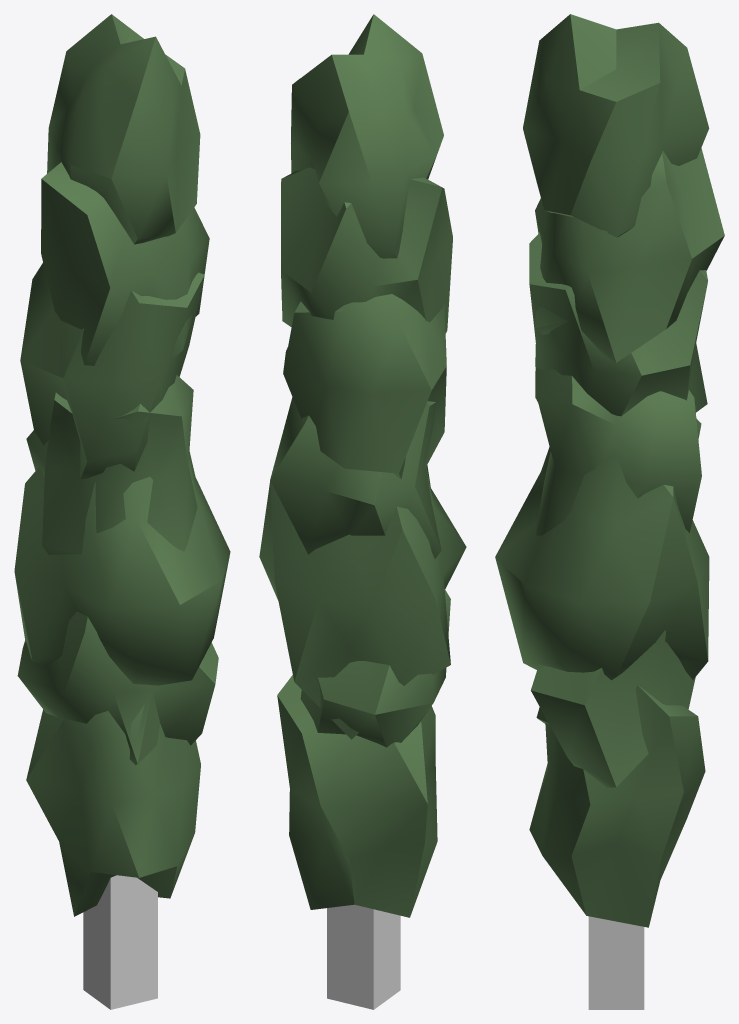
The model's file is tree_poplar.glb.
3 renders of one model, left to right at view 1: azimuth 30°, elevation 25°; view 2: azimuth 150°, elevation 25°; view 3: azimuth 270°, elevation 25°, orthographic. The views are drawn at different scales.
Parts seen in each view (by area): view 1: tree_mesh, tree_poplar-col; view 2: tree_mesh, tree_poplar-col; view 3: tree_mesh, tree_poplar-col.
Boxes of the visible parts, bbox=[...] form: tree_mesh: bbox=[14, 14, 230, 916]; tree_poplar-col: bbox=[83, 875, 157, 1009]; tree_mesh: bbox=[259, 14, 466, 917]; tree_poplar-col: bbox=[327, 904, 400, 1009]; tree_mesh: bbox=[495, 14, 724, 927]; tree_poplar-col: bbox=[588, 916, 644, 1009].
Bounding box in the file's own units: 1.54 × 7.86 × 1.65.
